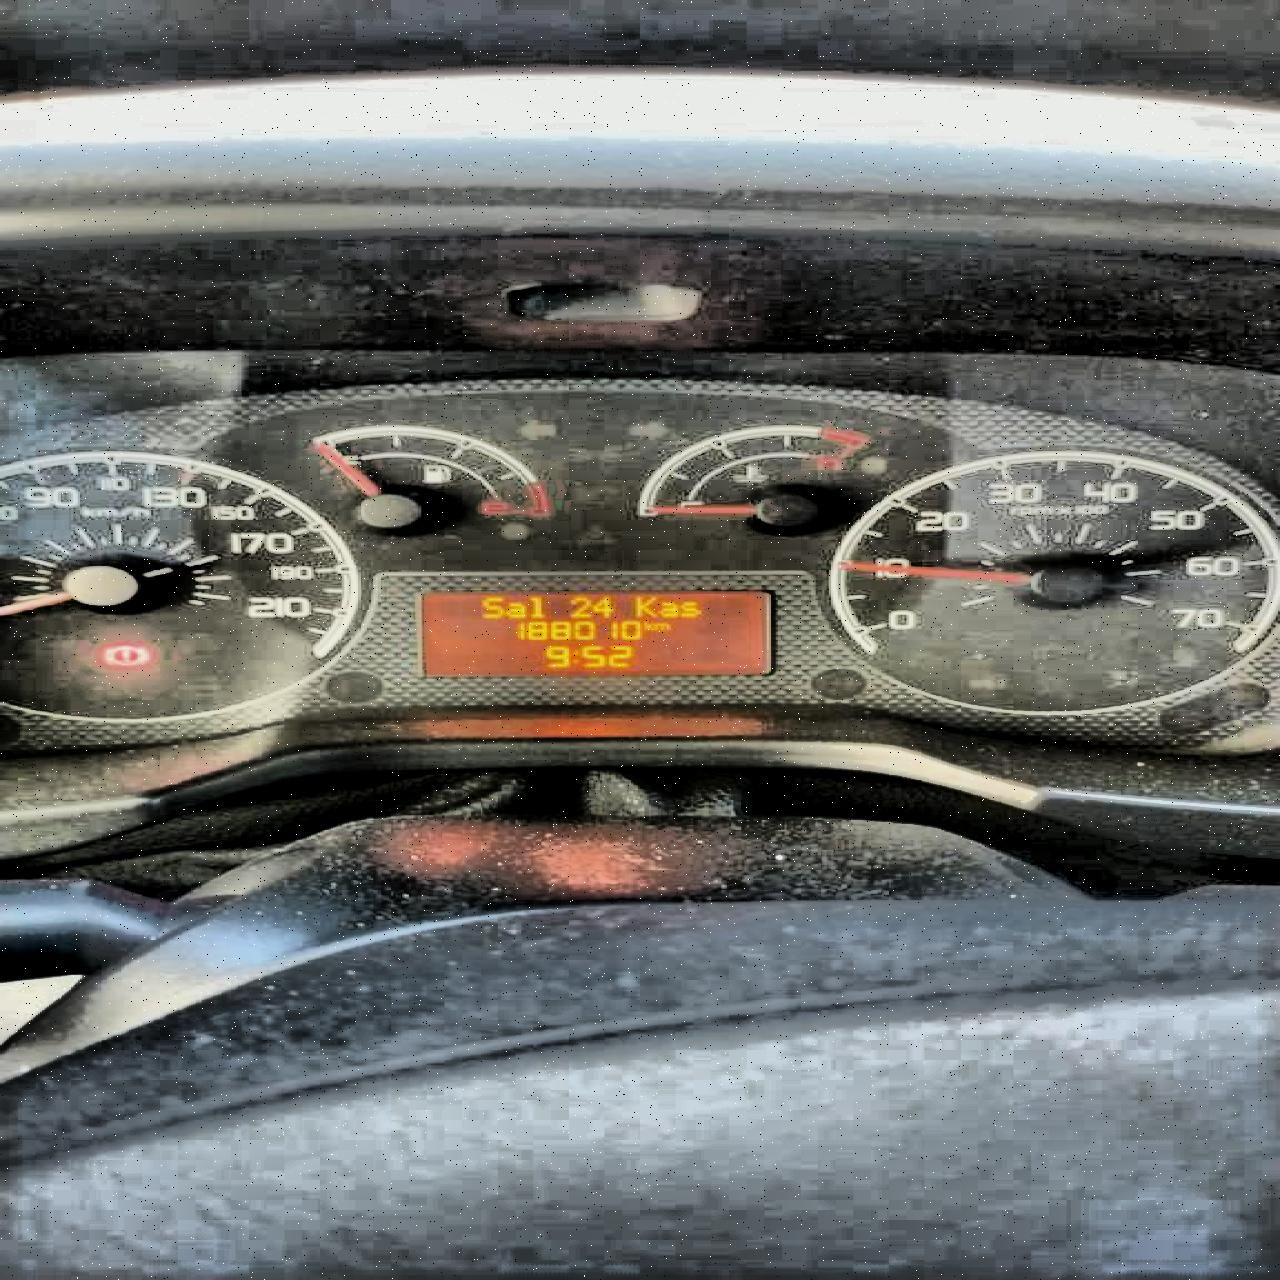0: (618, 620, 640, 639), (571, 620, 593, 639)
1: (610, 620, 618, 639), (516, 621, 524, 639)
2: (567, 594, 591, 618), (607, 644, 632, 666)
4: (588, 594, 611, 618)
5: (580, 644, 605, 666)
8: (524, 620, 546, 640), (549, 620, 568, 639)
9: (544, 645, 568, 667)
X: (633, 594, 658, 618), (478, 595, 502, 619), (524, 594, 543, 618), (675, 600, 700, 617), (655, 600, 678, 618), (503, 600, 524, 618), (651, 621, 669, 629), (568, 647, 578, 663), (642, 620, 654, 629)
odometer: (414, 587, 774, 678)
